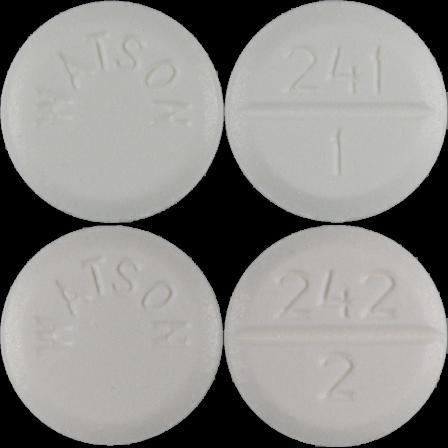63739-500: (0, 0, 224, 224)
